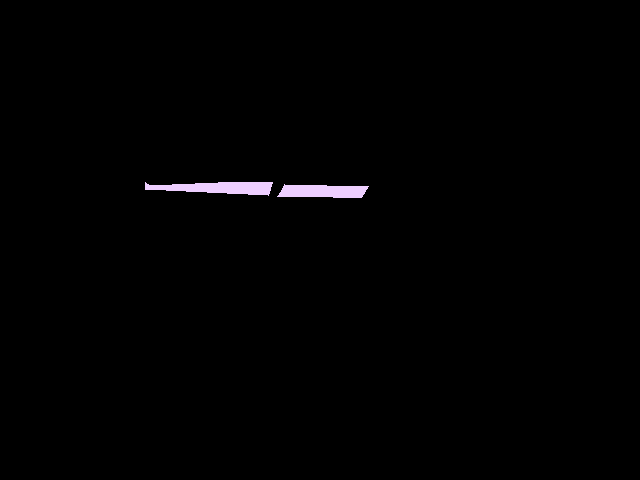Train: (145, 182, 368, 198)
